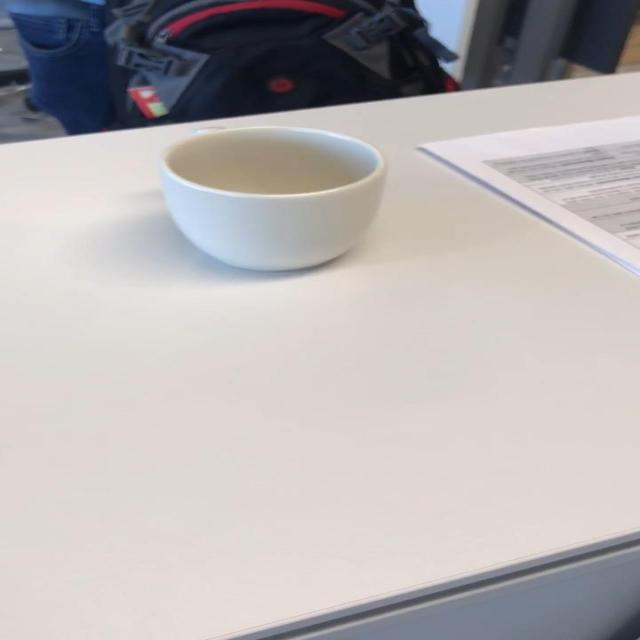cup: (159, 124, 386, 272)
